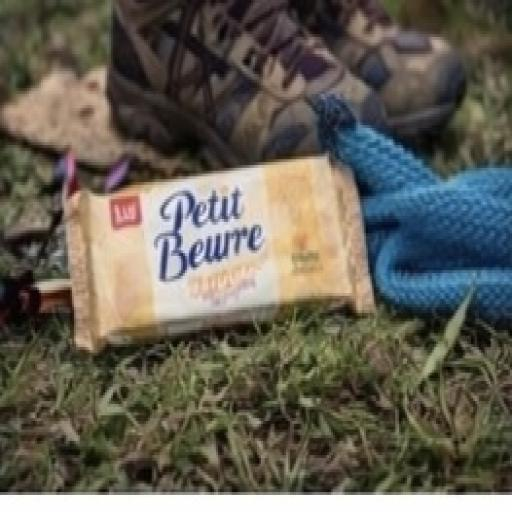petit-beurre: (44, 132, 406, 364)
